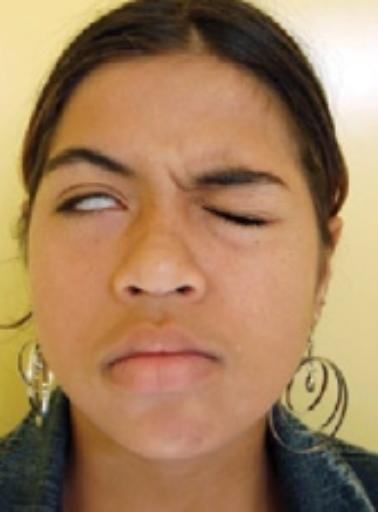left_eye: (203, 210, 279, 236)
left_lip_corner: (206, 349, 230, 371)
right_eye: (55, 193, 129, 223)
right_lip_corner: (98, 355, 122, 375)
